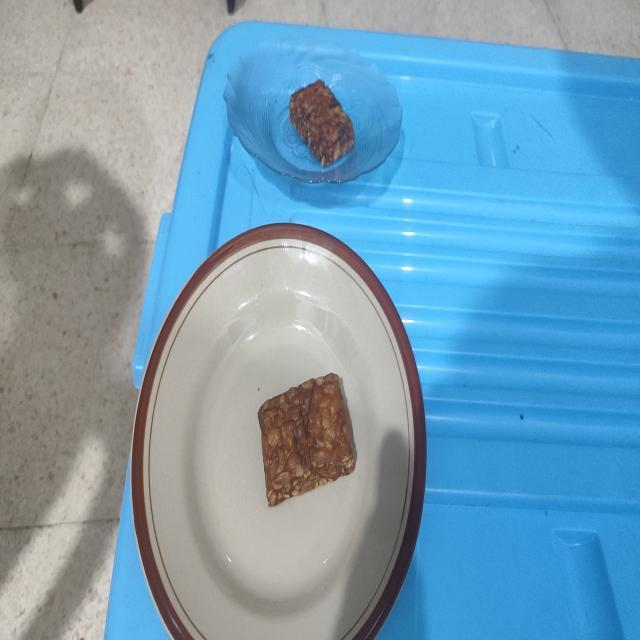tempe_goreng: (258, 373, 355, 506), (290, 80, 354, 166)
